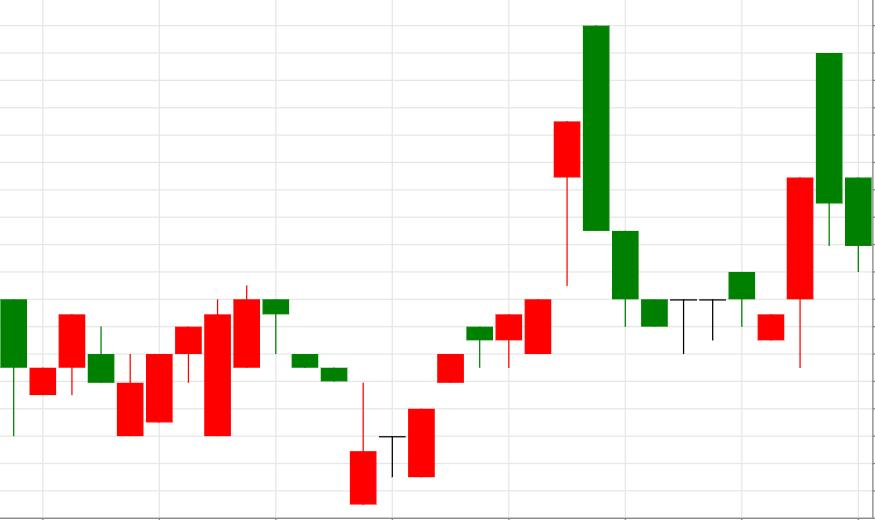hanging_man_fall: (350, 122, 582, 505)
